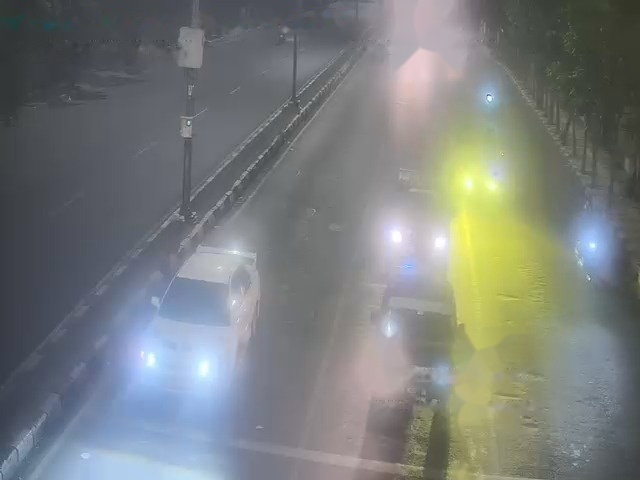Mobil: (145, 248, 246, 393), (366, 268, 450, 409), (379, 176, 450, 264), (453, 129, 499, 203)
Motor: (574, 235, 598, 282)
